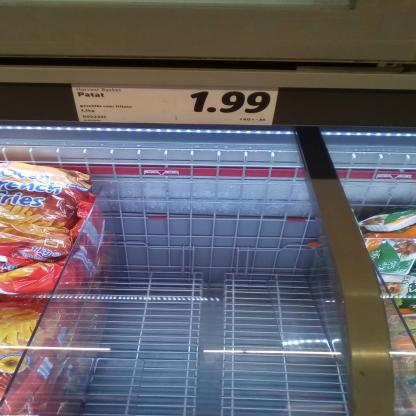prtg: (72, 84, 280, 126)
